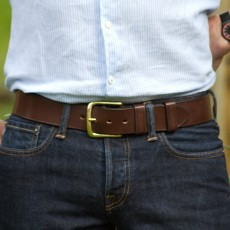C_jeans: (10, 102, 230, 229)
F_belt: (10, 85, 214, 135)
